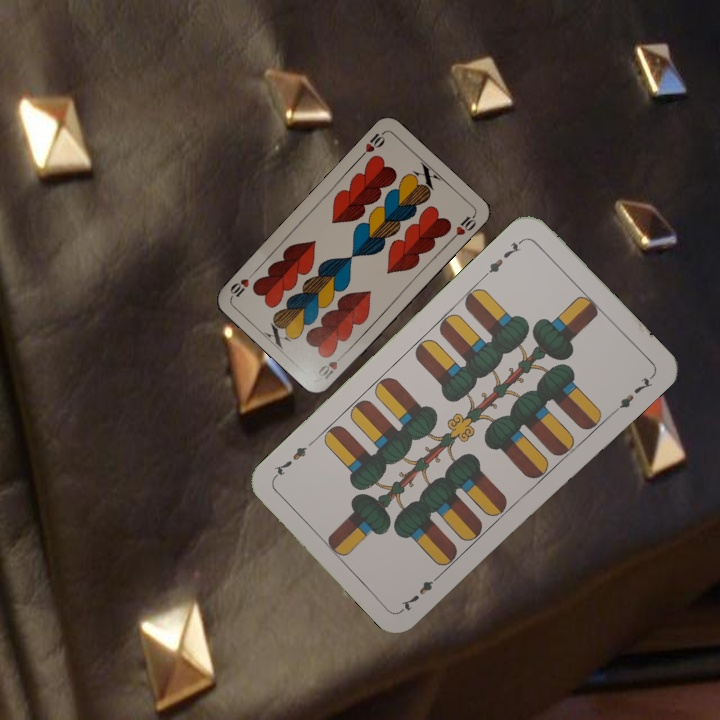E7: (480, 234, 527, 280), (397, 569, 445, 614)
H10: (314, 349, 348, 382), (356, 128, 388, 161)
